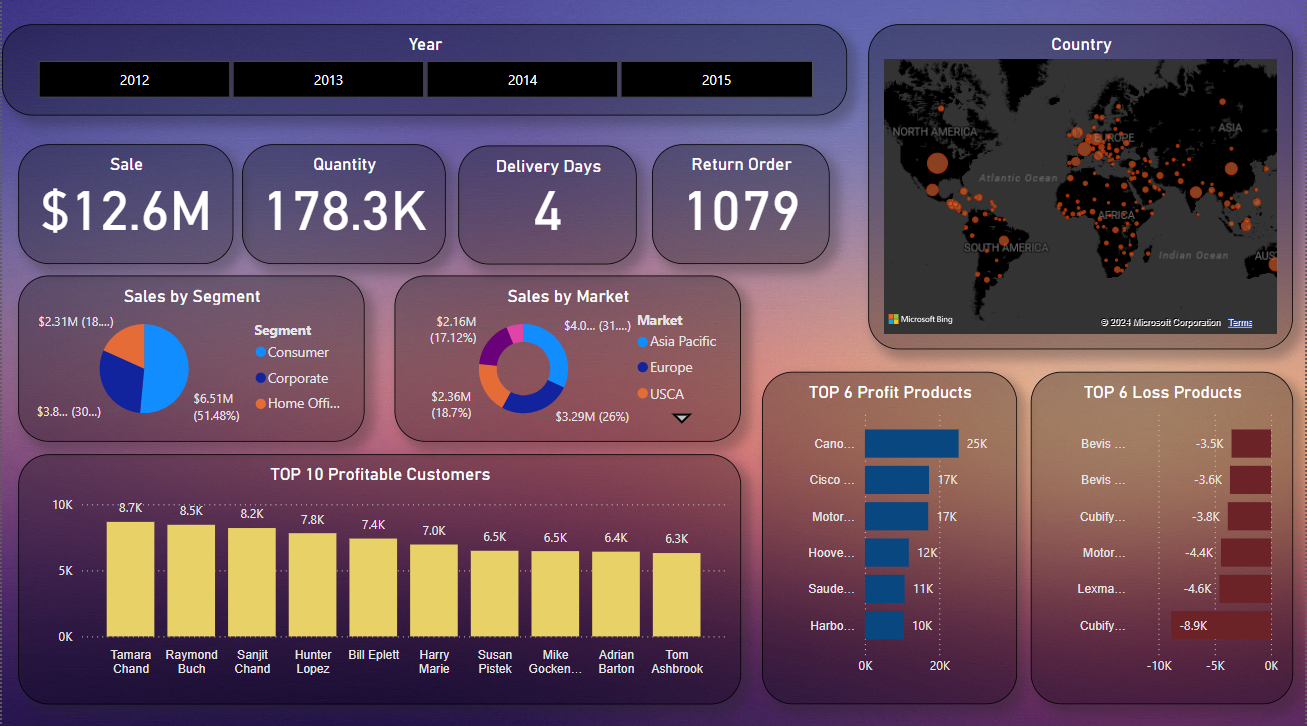

Layout of this report page (visuals, bound fields, positions):
{"tool":"powerbi","page":{"name":"Page 1","canvas":[1280,720],"ordinal":0},"visuals":[{"type":"card","title":"Sale","fields":{"Values":["Orders.Sales"]},"box":[16,148.5,211,117.8],"z":0},{"type":"actionButton","box":[0,0,100,40],"z":1000},{"type":"card","title":"Delivery Days","fields":{"Values":["Orders.Delivery Days"]},"box":[447.9,149.7,175.5,116.6],"z":2000},{"type":"card","title":"Quantity","fields":{"Values":["Orders.Quantity"]},"box":[235.6,148.5,200,117.8],"z":3000},{"type":"slicer","title":"Year","fields":{"Values":["Orders.Year"]},"box":[0,30.7,829.5,89.6],"z":4000},{"type":"card","title":"Return Order","fields":{"Values":["Returns.Return Order"]},"box":[638,148.5,174.2,117.8],"z":5000},{"type":"map","title":"Country","fields":{"Category":["Orders.Country"],"Size":["Orders.Sales"]},"box":[850.3,30.7,417.2,319],"z":6000},{"type":"clusteredBarChart","title":"TOP 6 Profit Products","fields":{"Category":["Orders.Product Name"],"Y":["Orders.Profit"]},"box":[746,371.8,250.3,326.4],"z":6001},{"type":"clusteredBarChart","title":"TOP 6 Loss Products","fields":{"Category":["Orders.Product Name"],"Y":["Orders.Profit"]},"box":[1009.8,371.8,257.7,326.4],"z":6002},{"type":"pieChart","title":"Sales by Segment","fields":{"Category":["Orders.Segment"],"Y":["Orders.Sales"]},"box":[16,277.3,339.9,163.2],"z":6003},{"type":"donutChart","title":"Sales by Market","fields":{"Y":["Orders.Sales"],"Category":["Orders.Market"]},"box":[385.3,277.3,339.9,163.2],"z":6004},{"type":"columnChart","title":"TOP 10 Profitable Customers","fields":{"Y":["Orders.Profit"],"Category":["Orders.Customer Name"]},"box":[16,452.8,709.2,245.4],"z":6005}]}

Visuals, with their boxes in screenshot pixels (x1, y1, x2, y2), scaled from the page's 1280x720 canvas onto the 1307x726 screenshot:
"Sale" card: <region>16, 150, 232, 269</region>
actionButton: <region>0, 0, 102, 40</region>
"Delivery Days" card: <region>457, 151, 637, 269</region>
"Quantity" card: <region>241, 150, 445, 269</region>
"Year" slicer: <region>0, 31, 847, 121</region>
"Return Order" card: <region>651, 150, 829, 269</region>
"Country" map: <region>868, 31, 1294, 353</region>
"TOP 6 Profit Products" clusteredBarChart: <region>762, 375, 1017, 704</region>
"TOP 6 Loss Products" clusteredBarChart: <region>1031, 375, 1294, 704</region>
"Sales by Segment" pieChart: <region>16, 280, 363, 444</region>
"Sales by Market" donutChart: <region>393, 280, 740, 444</region>
"TOP 10 Profitable Customers" columnChart: <region>16, 457, 740, 704</region>
